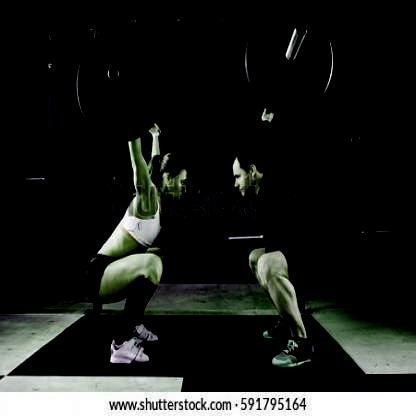Barbell: (295, 20, 310, 40), (106, 64, 121, 83)
